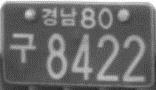0: (98, 7, 113, 28)
2: (94, 33, 119, 81), (122, 33, 146, 82)
4: (71, 32, 93, 79)
8: (46, 32, 67, 78), (80, 7, 95, 28)
경남_O: (41, 6, 78, 26)
구: (8, 32, 36, 63)
